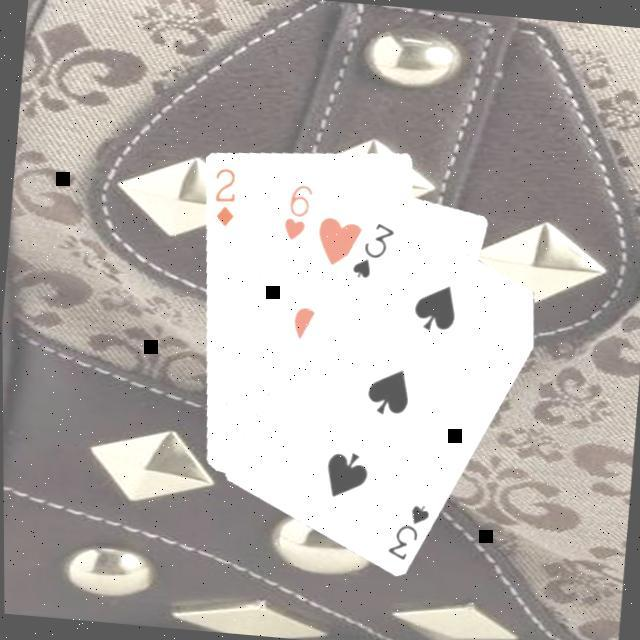2D: (205, 161, 238, 227)
3S: (345, 214, 396, 282), (380, 495, 430, 563)
6H: (275, 176, 314, 243)
